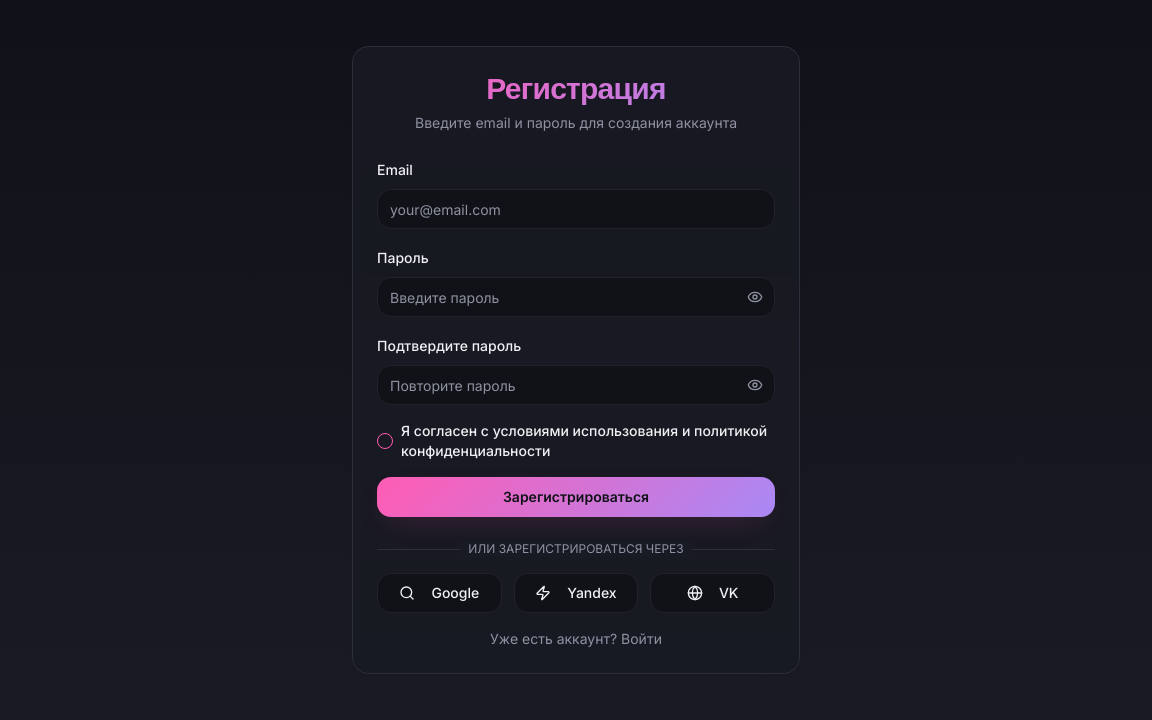
Test: Register Component › shows loading state during registration
Заполняем форму
Type "test@example.com" into the field labelled "Email" at [576, 209], box [377,189,775,229]
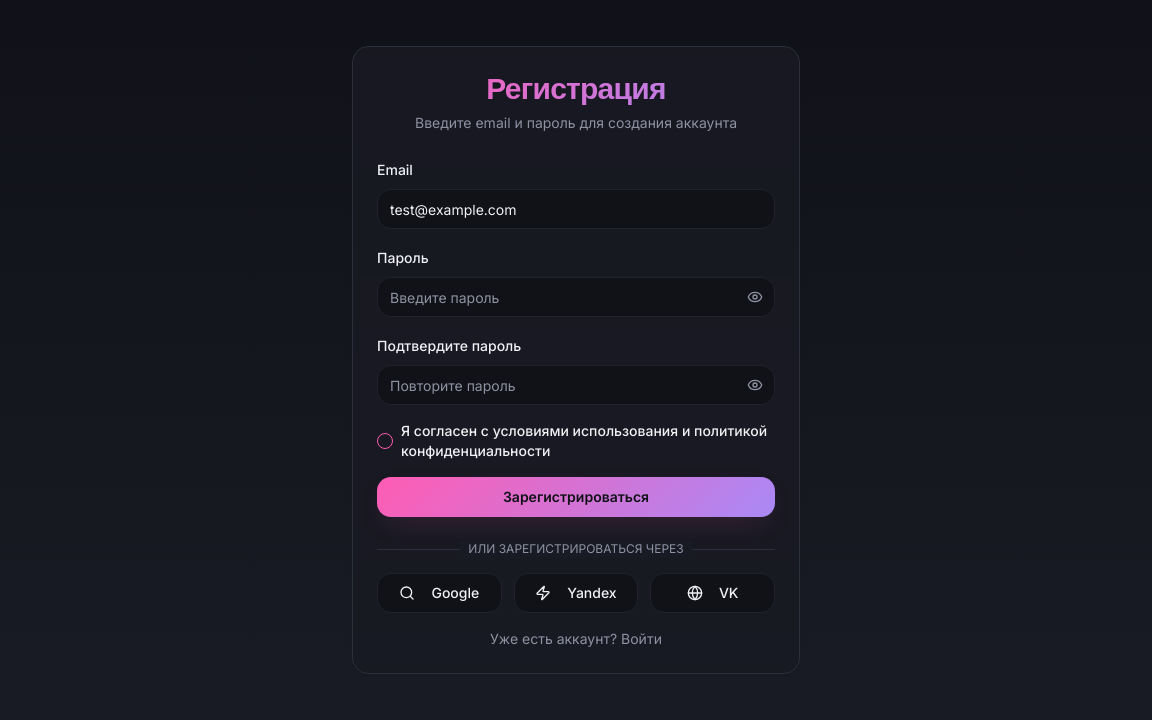
Type "password123" into the password field labelled "Пароль" at [576, 297], box [377,277,775,317]
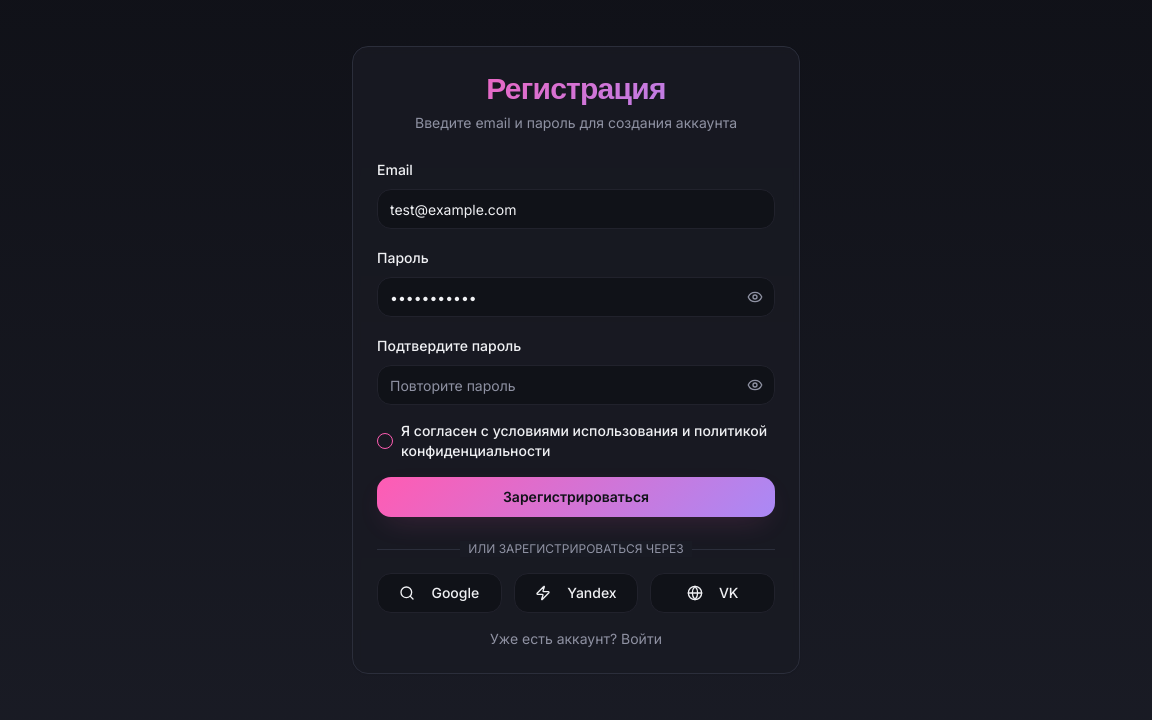
Type "password123" into the password field labelled "Подтвердите пароль" at [576, 385], box [377,365,775,405]
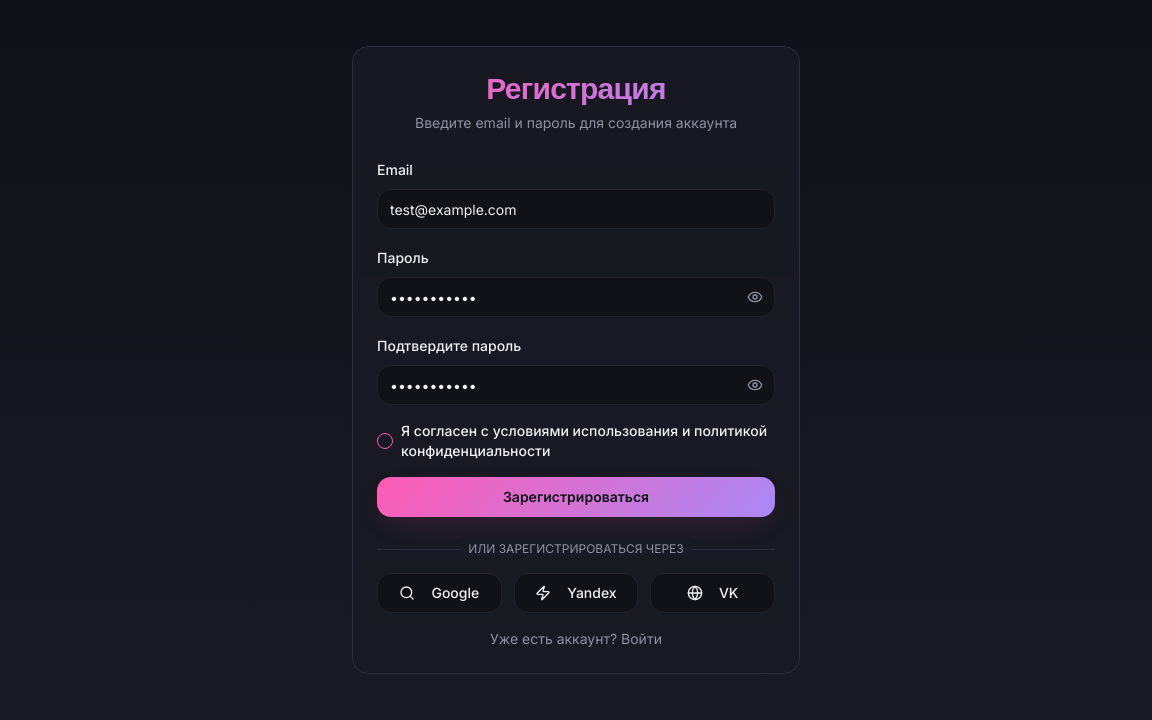
Click the checkbox at [385, 441], box [377,433,393,449]
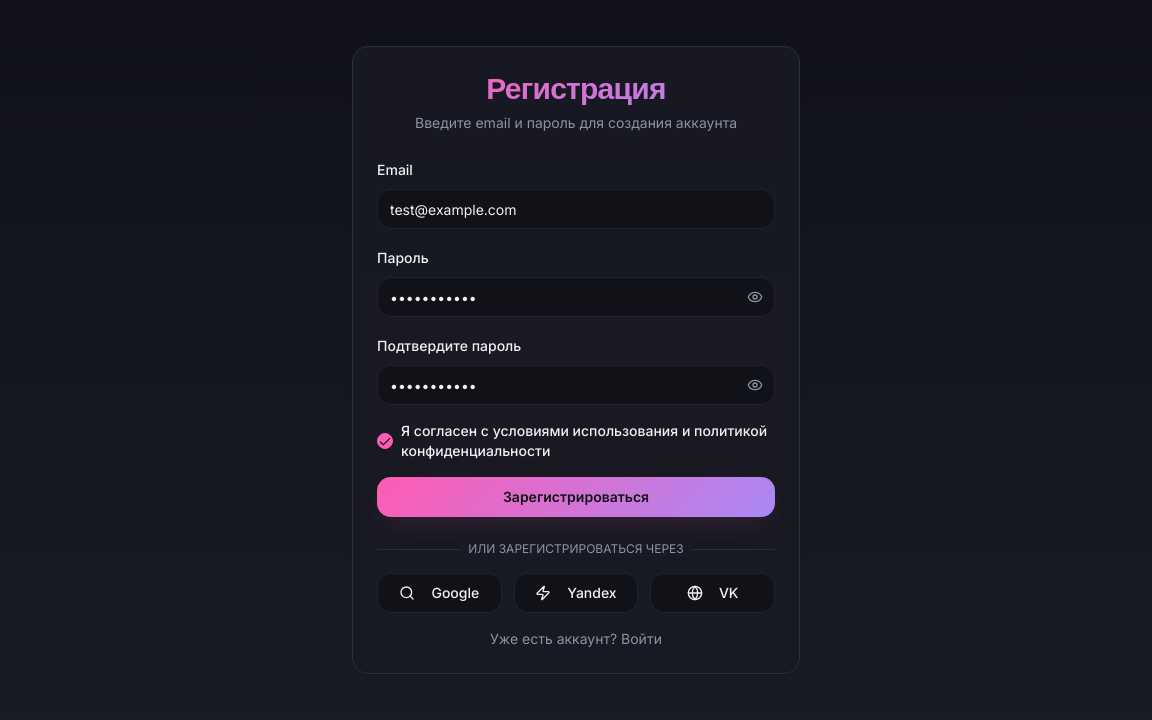
Click the button "Зарегистрироваться" at [576, 497], box [377,477,775,517]
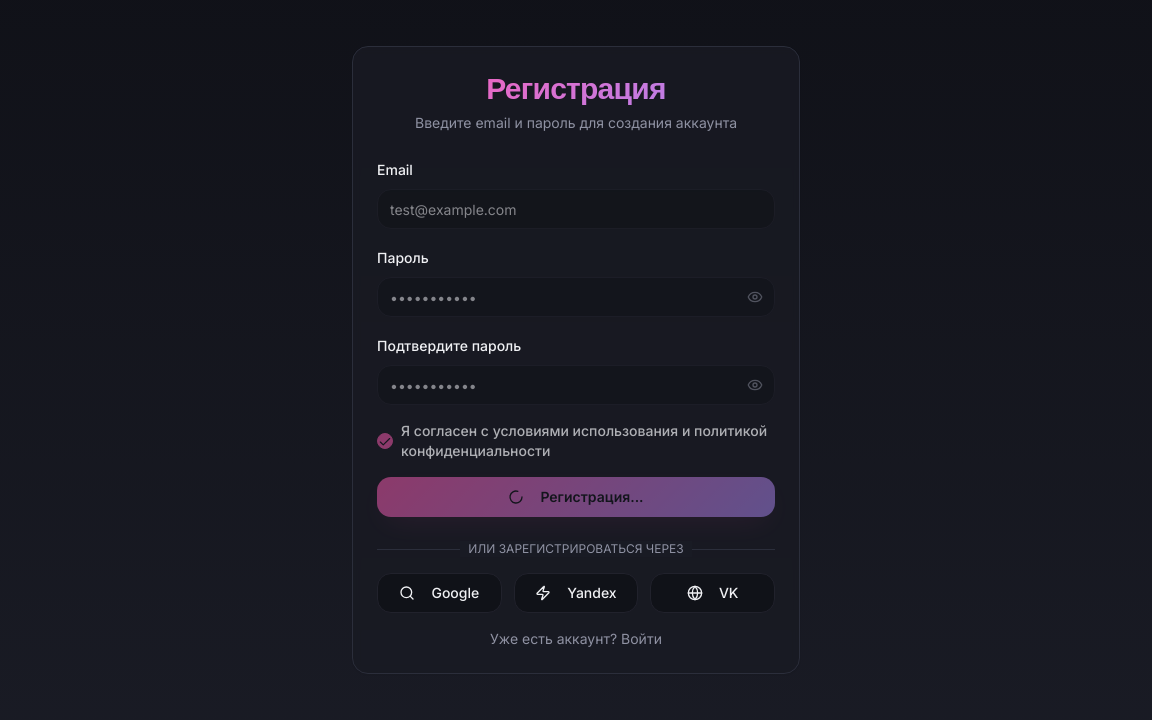
Expected: the button "Регистрация..." is disabled, [377,477,775,517]
